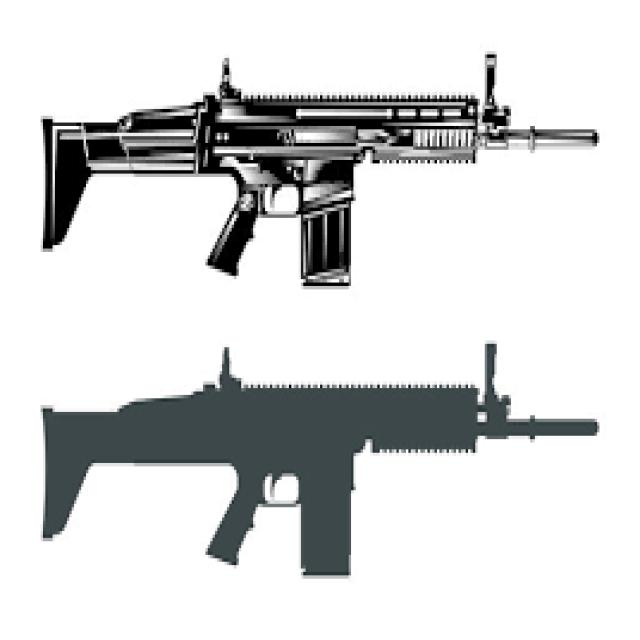Gun: (16, 29, 618, 298), (30, 332, 623, 592)
